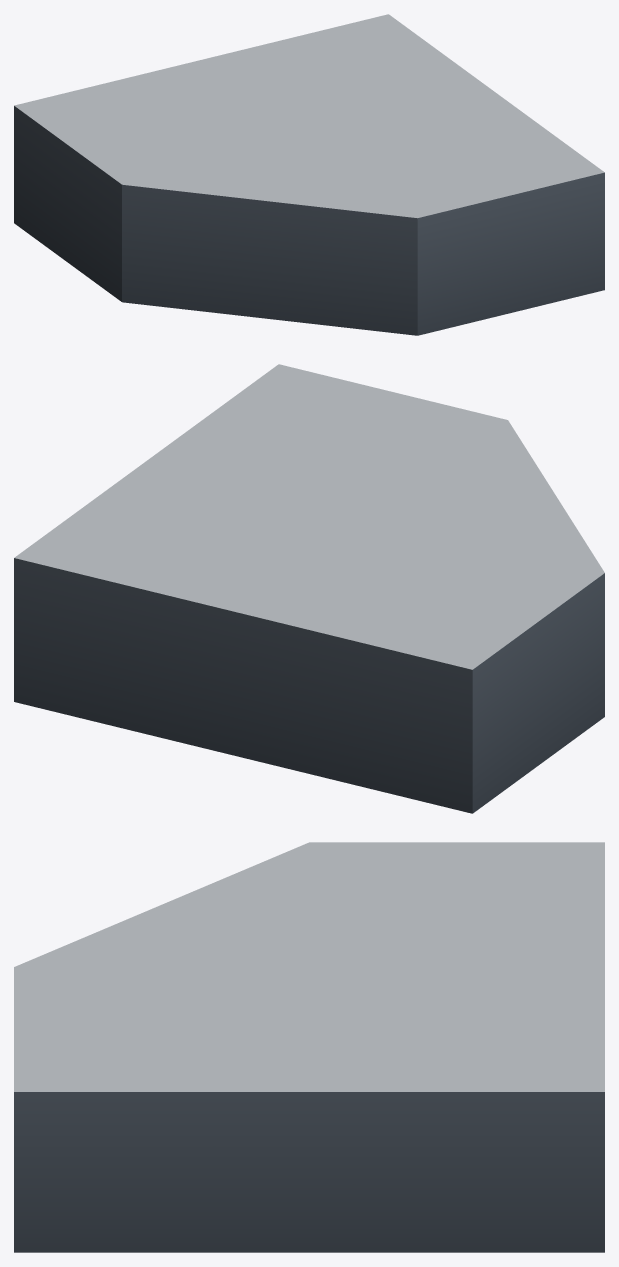
File: floor-corner.glb
3 views of the same model, one above another, from view 1: azimuth 30°, elevation 25°; view 2: azimuth 150°, elevation 25°; view 3: azimuth 270°, elevation 25° (orthographic). The views are drawn at different scales.
Parts seen in each view (by area): view 1: floor-corner; view 2: floor-corner; view 3: floor-corner.
Boxes of the visible parts, x1,y1,x2,y2 form: floor-corner: [14, 14, 604, 335]; floor-corner: [14, 364, 604, 813]; floor-corner: [14, 842, 604, 1252].
Size of the model in its own units: 1 by 0.3 by 1.
